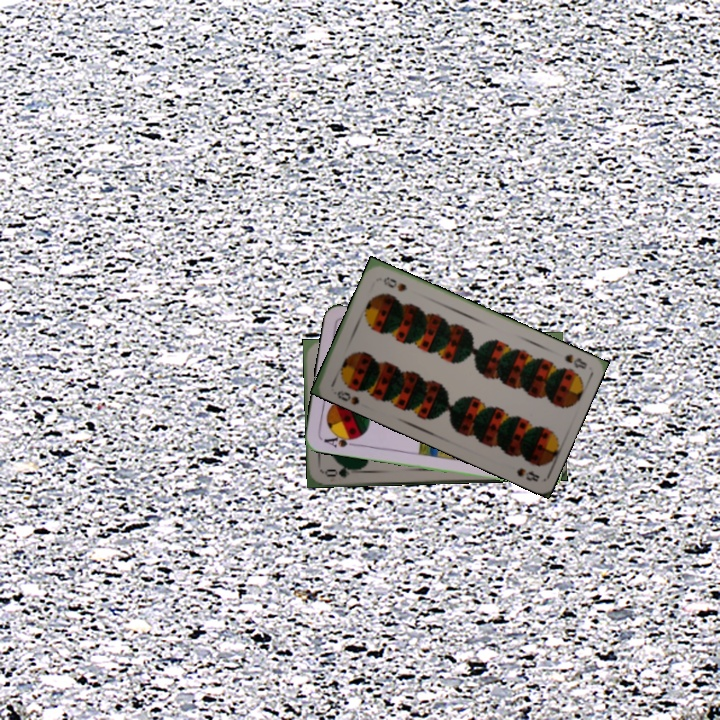GO: (321, 462, 362, 480)
S8: (560, 350, 589, 372), (333, 386, 362, 407)
SA: (320, 429, 360, 450)
